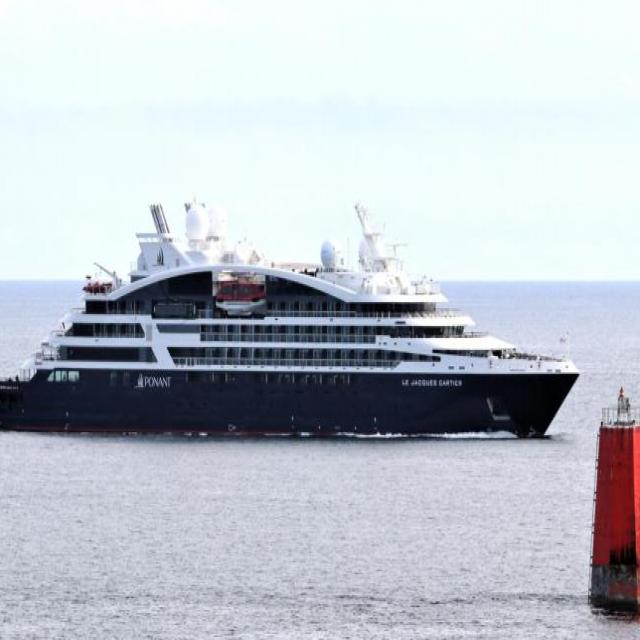cruises: (1, 194, 587, 454)
